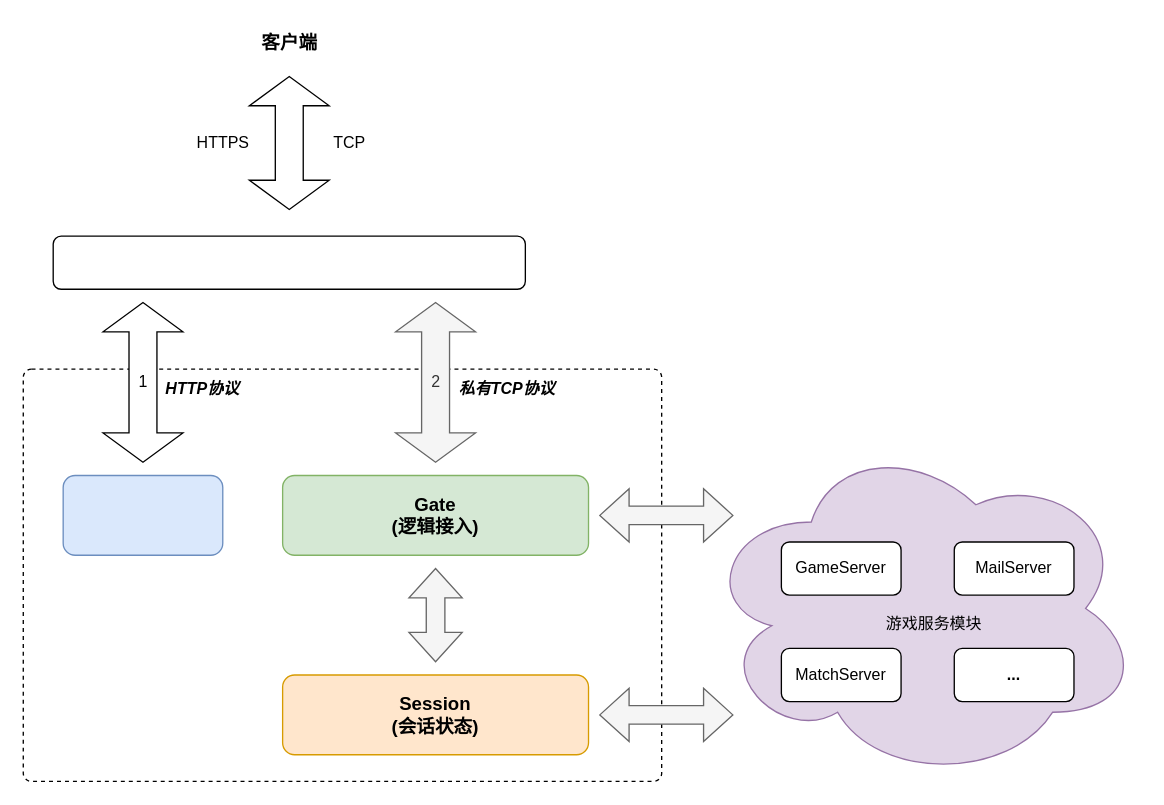
Image size: 1164x805. Some labels were removed from this diagram. The box of each missing label's shape, as (x1, y1, x2, y2) in pixels:
Nginx: (52, 235, 525, 289)
鉴权登录: (62, 474, 223, 555)
